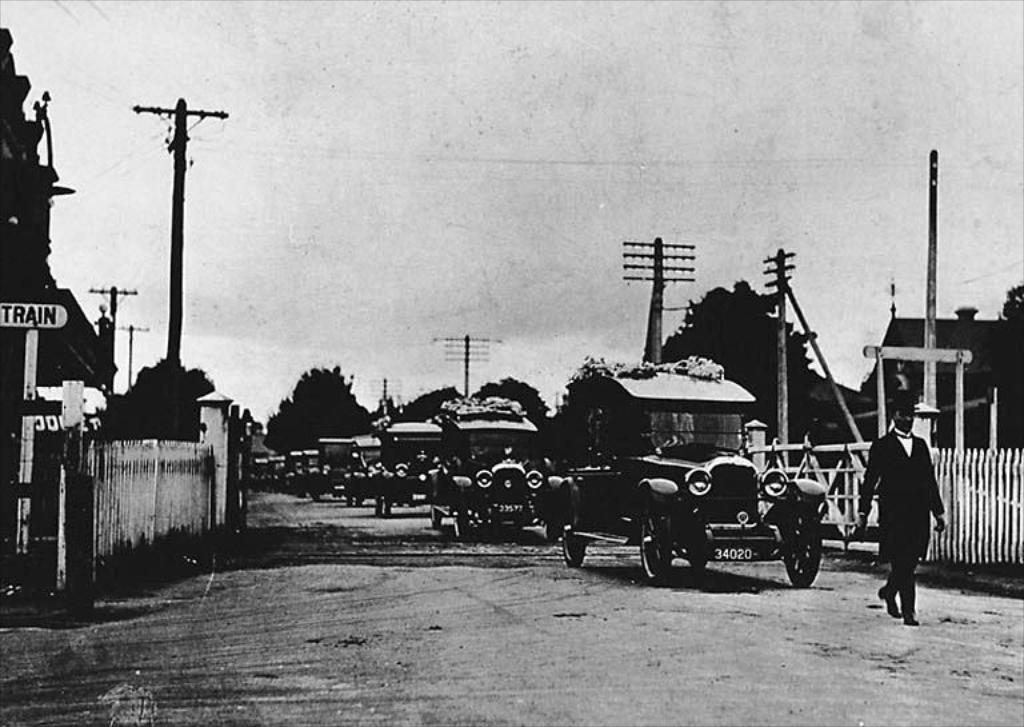Car: (245, 366, 829, 590)
